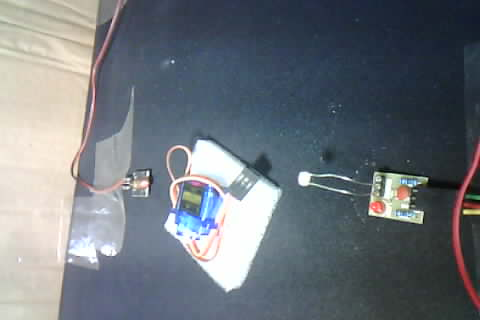motor: (161, 138, 271, 279)
